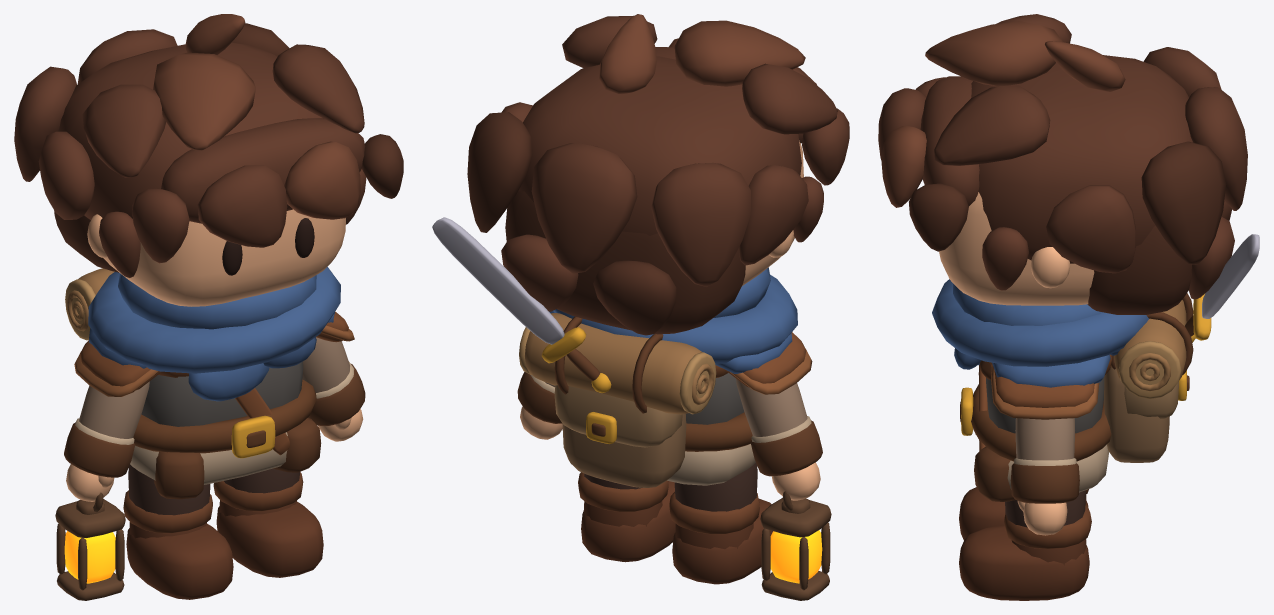
File: hunter.glb
3 views of the same model, side by side, from view 1: azimuth 30°, elevation 25°; view 2: azimuth 150°, elevation 25°; view 3: azimuth 270°, elevation 25° (orthographic).
Visible parts, largest first — view 1: Hair, Scarf, Head, Boot_R, Boot_L, Lantern, TunicHem, Vest, Belt, Pauldrons, Sleeve_R, Bracer_R (+10 smaller); view 2: Hair, Bedroll, Pack, Scarf, Boot_R, Boot_L, Lantern, Sword, Sleeve_R, Bracer_R, Pauldrons, Trouser_R (+7 smaller); view 3: Hair, Scarf, Boot_L, Head, Bedroll, Pack, Pauldrons, Sleeve_L, TunicHem, Sword, Bracer_L, Belt (+5 smaller).
Boxes of the visible parts, <box> form: Hair: <box>14,14,403,277</box>; Scarf: <box>88,267,340,401</box>; Head: <box>87,209,345,306</box>; Boot_R: <box>123,490,233,599</box>; Boot_L: <box>213,472,323,577</box>; Lantern: <box>55,492,125,600</box>; TunicHem: <box>130,418,321,499</box>; Vest: <box>141,361,303,426</box>; Belt: <box>133,379,316,453</box>; Pauldrons: <box>74,311,354,396</box>; Sleeve_R: <box>75,381,149,444</box>; Bracer_R: <box>64,422,134,477</box>; Hair: <box>467,14,849,335</box>; Bedroll: <box>519,313,716,414</box>; Pack: <box>554,385,686,487</box>; Scarf: <box>549,267,797,373</box>; Boot_R: <box>669,492,772,584</box>; Boot_L: <box>578,472,675,562</box>; Lantern: <box>760,491,831,600</box>; Sword: <box>432,217,611,392</box>; Sleeve_R: <box>736,379,811,442</box>; Bracer_R: <box>751,420,822,476</box>; Pauldrons: <box>715,332,812,394</box>; Trouser_R: <box>674,463,757,511</box>; Hair: <box>878,14,1247,314</box>; Scarf: <box>932,279,1148,387</box>; Boot_L: <box>959,504,1091,600</box>; Head: <box>939,192,1094,305</box>; Bedroll: <box>1111,293,1193,398</box>; Pack: <box>979,360,1189,462</box>; Pauldrons: <box>990,354,1111,419</box>; Sleeve_L: <box>1014,418,1076,465</box>; TunicHem: <box>974,434,1108,501</box>; Sword: <box>1185,234,1259,342</box>; Bracer_L: <box>1010,463,1079,503</box>; Belt: <box>971,384,1111,461</box>.
Size of the model in its own units: 0.6602 by 1.14 by 0.7284.
